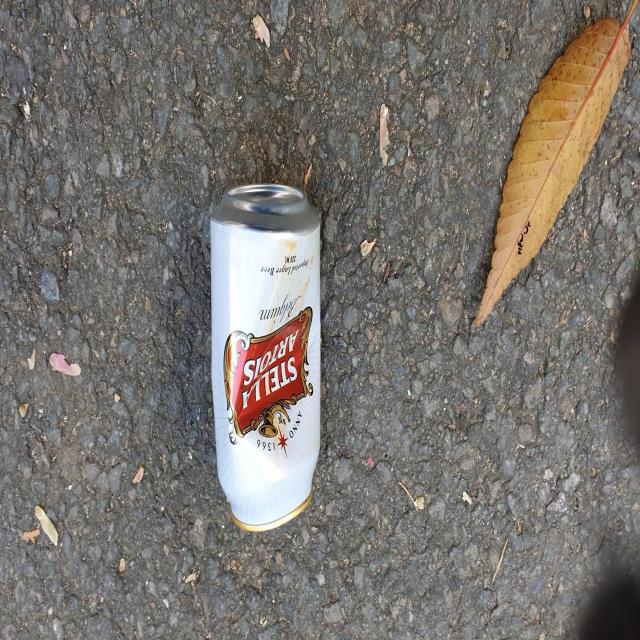can: (210, 183, 320, 532)
